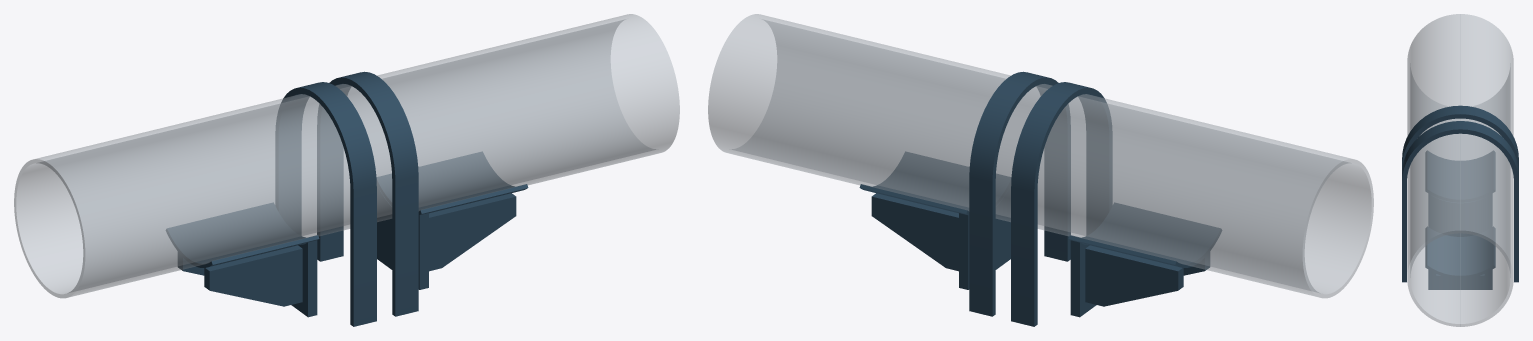
The model's file is TS-669.00.00-15-opora-dn133-ris2.glb.
3 views of the same model, side by side, from view 1: azimuth 30°, elevation 25°; view 2: azimuth 150°, elevation 25°; view 3: azimuth 270°, elevation 25° (orthographic). The views are drawn at different scales.
Parts seen in each view (by area): view 1: truba, homut_9, homut_10, upor_8, upor_6, upor_4, upor_2, upor_1, upor_5; view 2: truba, homut_9, homut_10, upor_8, upor_7, upor_4, upor_3, upor_1, upor_5; view 3: truba, upor_4, upor_8, homut_9, upor_5, homut_10, upor_1, upor_2, upor_3.
Part boxes in pixels (<box>): truba: <box>14,14,679,298</box>; homut_9: <box>317,71,418,316</box>; homut_10: <box>275,82,376,326</box>; upor_8: <box>166,203,319,267</box>; upor_6: <box>204,245,302,306</box>; upor_4: <box>377,152,528,215</box>; upor_2: <box>429,193,516,271</box>; upor_1: <box>377,186,428,289</box>; upor_5: <box>291,240,317,317</box>; truba: <box>708,14,1373,298</box>; homut_9: <box>969,71,1070,316</box>; homut_10: <box>1011,82,1112,326</box>; upor_8: <box>1068,203,1221,267</box>; upor_7: <box>1085,245,1183,306</box>; upor_4: <box>859,152,1010,215</box>; upor_3: <box>871,193,958,271</box>; upor_1: <box>959,186,1010,289</box>; upor_5: <box>1070,240,1096,317</box>; truba: <box>1407,14,1513,326</box>; upor_4: <box>1425,227,1495,278</box>; upor_8: <box>1425,151,1495,202</box>; homut_9: <box>1402,121,1518,282</box>; upor_5: <box>1428,194,1492,236</box>; homut_10: <box>1402,105,1518,171</box>; upor_1: <box>1428,270,1492,289</box>; upor_2: <box>1436,274,1444,289</box>; upor_3: <box>1476,274,1484,289</box>.
Size of the model in its own units: 640 by 211 by 146.
